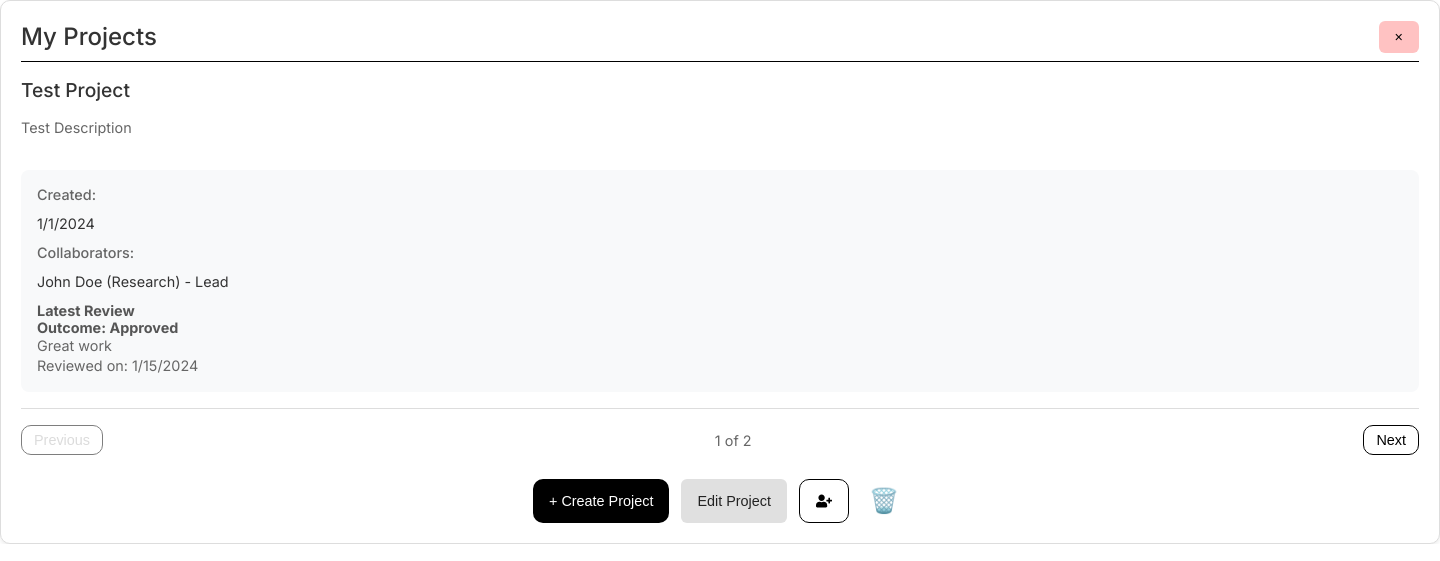
Scenario: ProjectsWidget › handles project navigation correctly
Expected: the heading "Test Project" is shown, [21,78,130,102]
Click the button "Next" at (1391, 440), box [1363,426,1419,456]
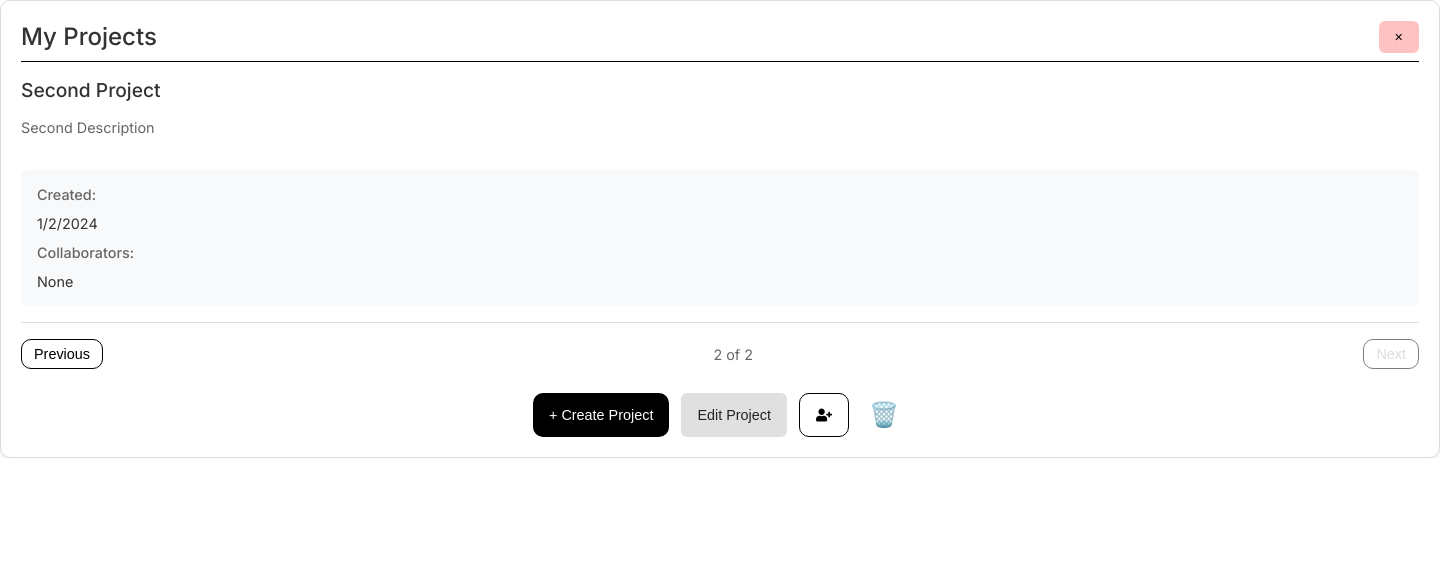
Expected: the heading "Second Project" is shown, [21,78,160,102]
